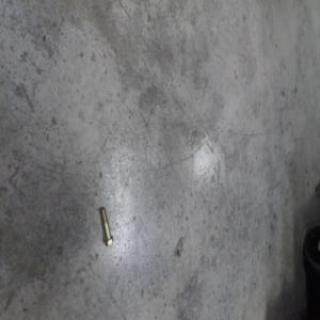Bolttrack_idkeyframe: (98, 205, 114, 248)
